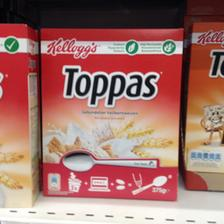Cerealien: (38, 26, 182, 200), (184, 20, 220, 191)
